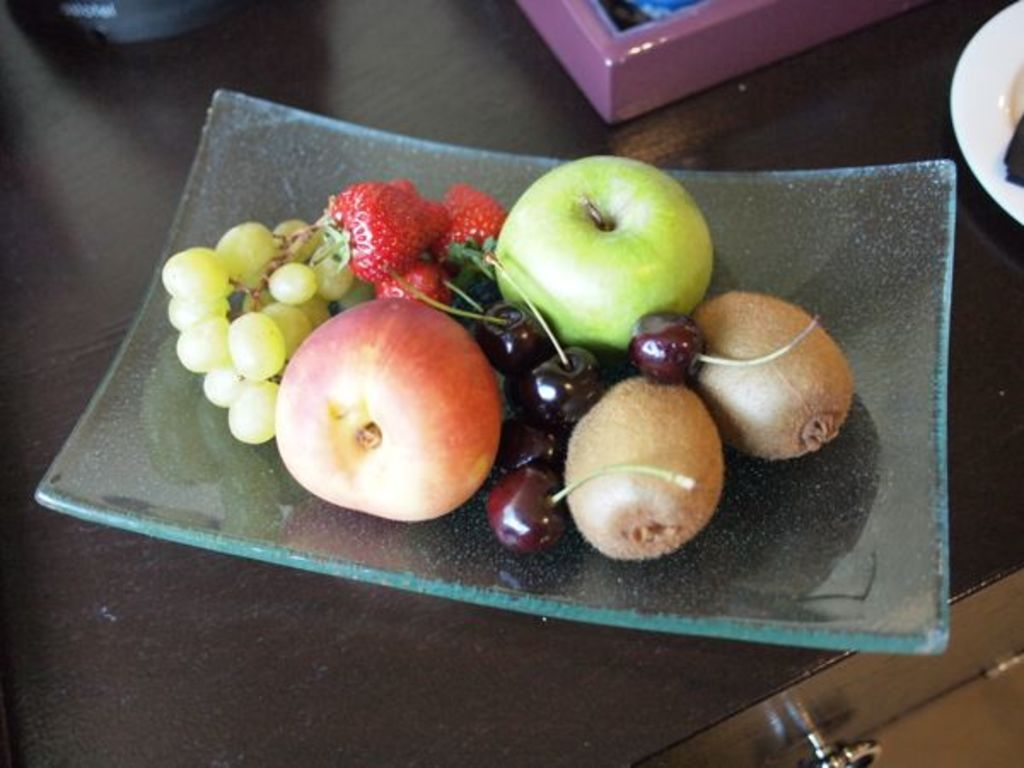Apple: (269, 293, 505, 520), (484, 157, 711, 360)
